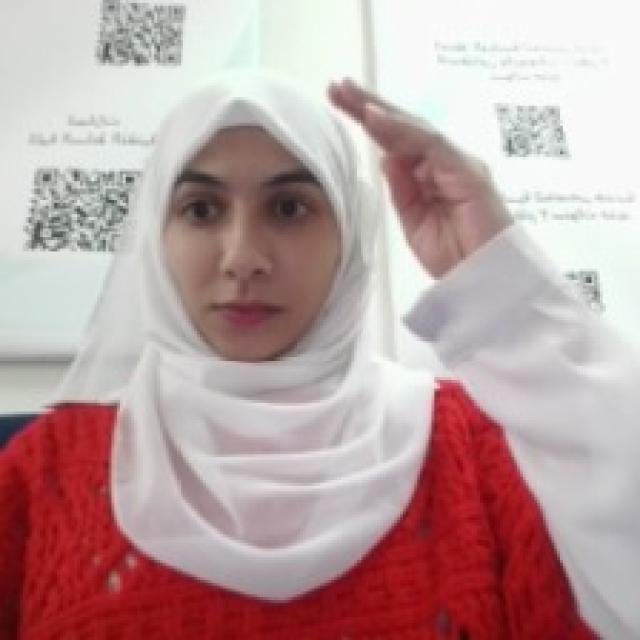Thanks: (320, 66, 514, 280)
